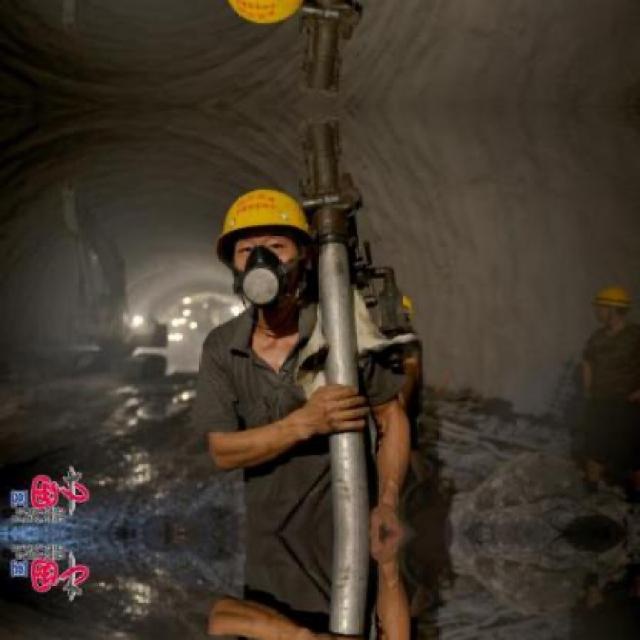helmet: (212, 176, 326, 322), (211, 0, 326, 39), (592, 282, 634, 326)
